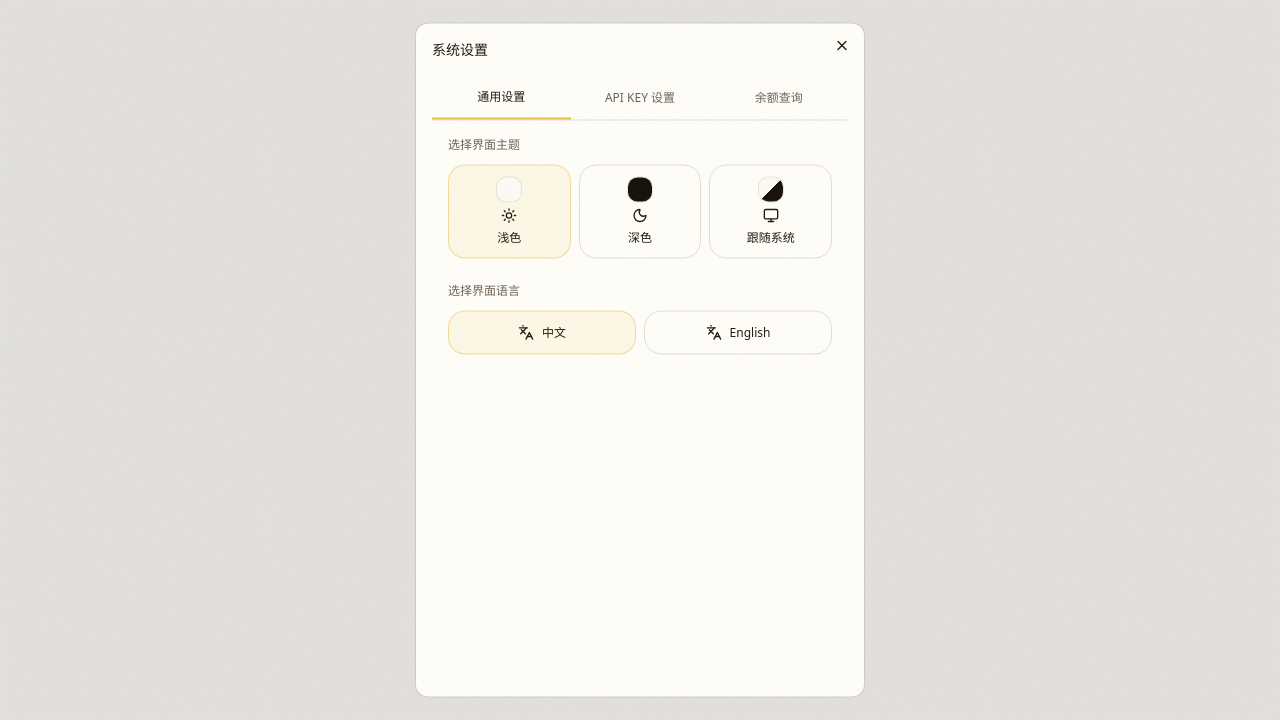
it: SettingsDialog › 切换到 API Key 标签
The width and height of the screenshot is (1280, 720).
Click the button "API KEY 设置": (640, 98) left=571, top=76, right=709, bottom=120
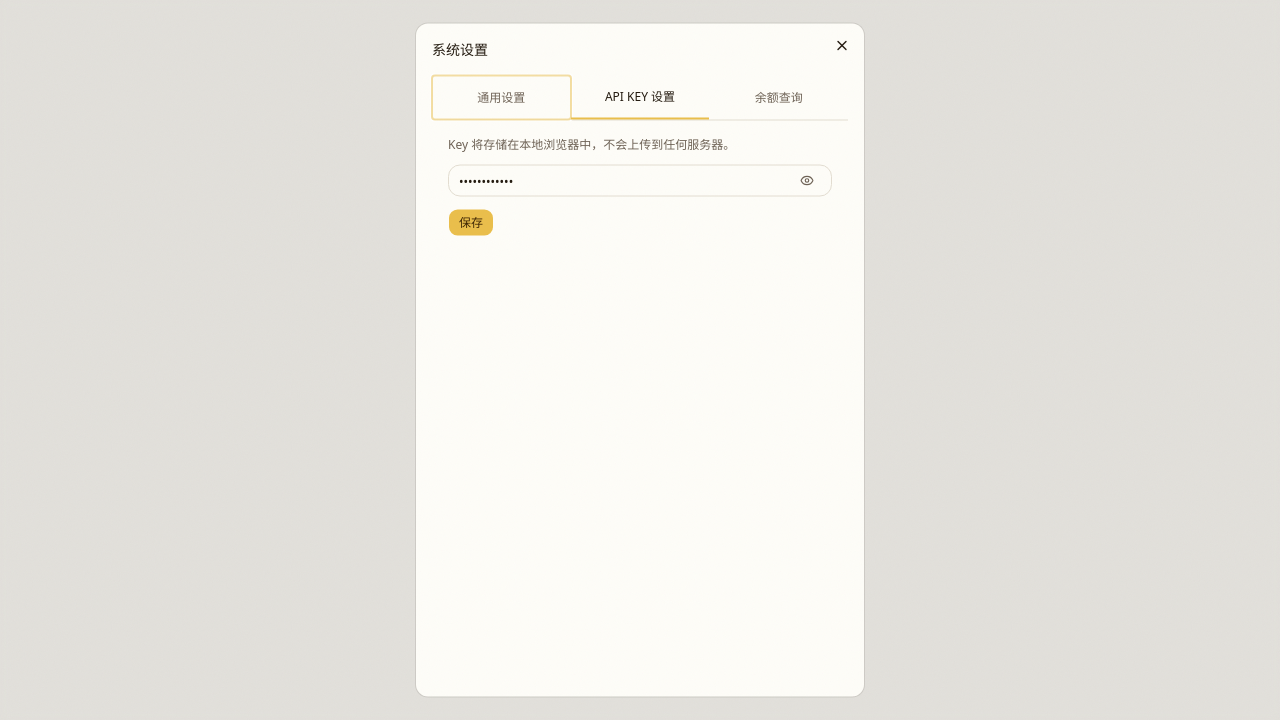
Result: the text "Key 将存储在本地浏览器中，不会上传到任何服务器。" is shown at left=448, top=136, right=735, bottom=152
